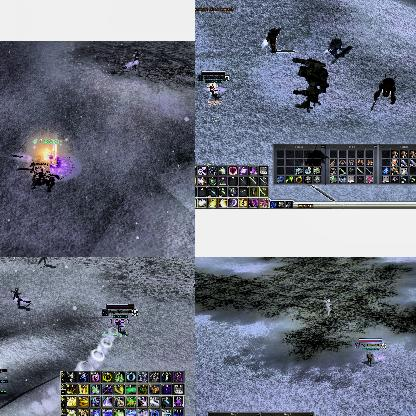caliana: (19, 153, 53, 193), (120, 51, 142, 71), (10, 289, 30, 309), (324, 298, 338, 316), (36, 257, 47, 265)
